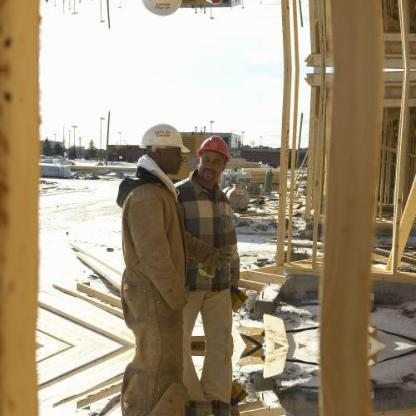helmet: (137, 122, 190, 158), (193, 133, 237, 166)
